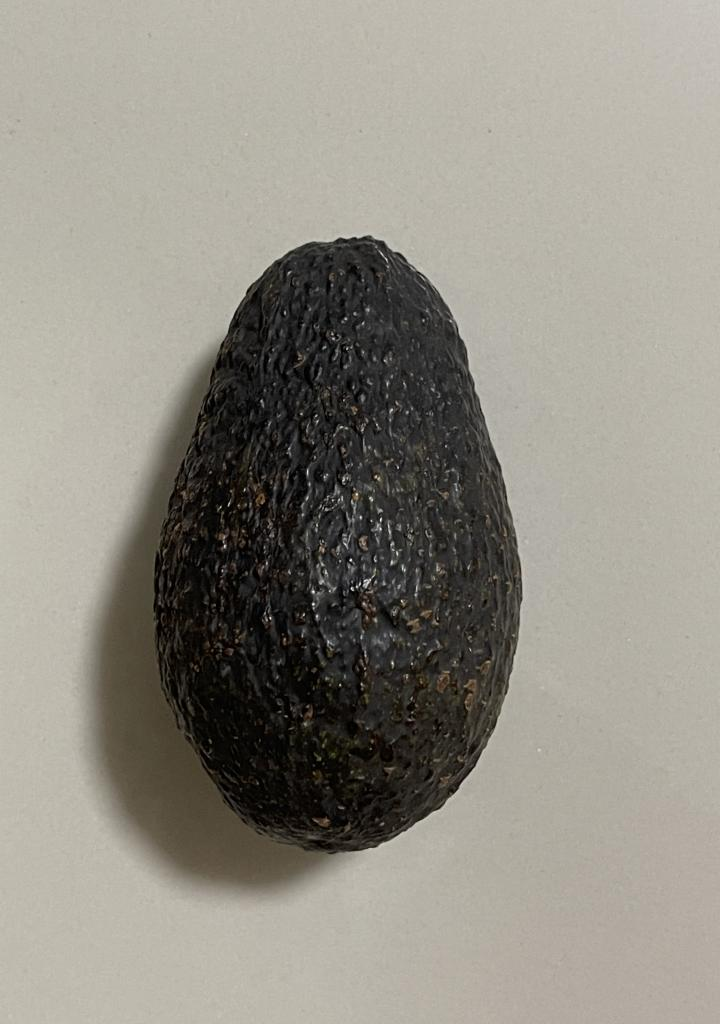Level2: (143, 223, 531, 860)
